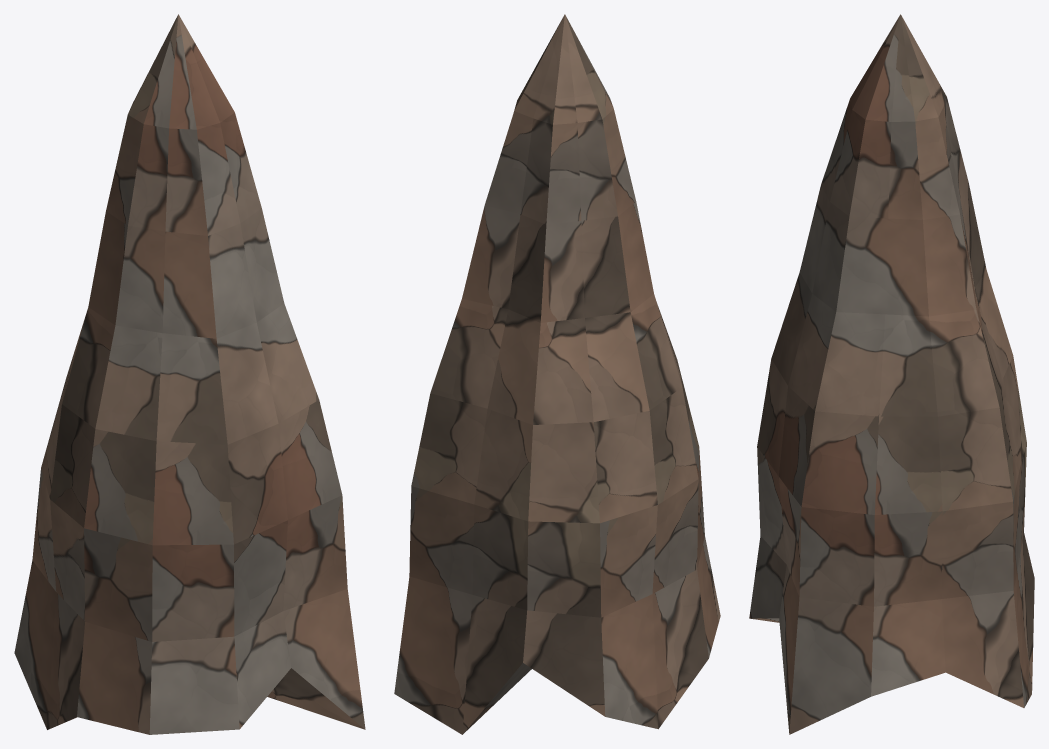
Rendered from CanyonSpireS_Top.gltf.
3 views of the same model, side by side, from view 1: azimuth 30°, elevation 25°; view 2: azimuth 150°, elevation 25°; view 3: azimuth 270°, elevation 25° (orthographic). The views are drawn at different scales.
Visible parts, largest first — view 1: CanyonSpireS_Top; view 2: CanyonSpireS_Top; view 3: CanyonSpireS_Top.
Boxes of the visible parts, x1,y1,x2,y2 form: CanyonSpireS_Top: [14, 14, 365, 734]; CanyonSpireS_Top: [394, 14, 720, 734]; CanyonSpireS_Top: [749, 14, 1034, 734].
Bounding box in the file's own units: 6.19 × 15.01 × 5.86.
Materials: 1 (1 with a texture image).
